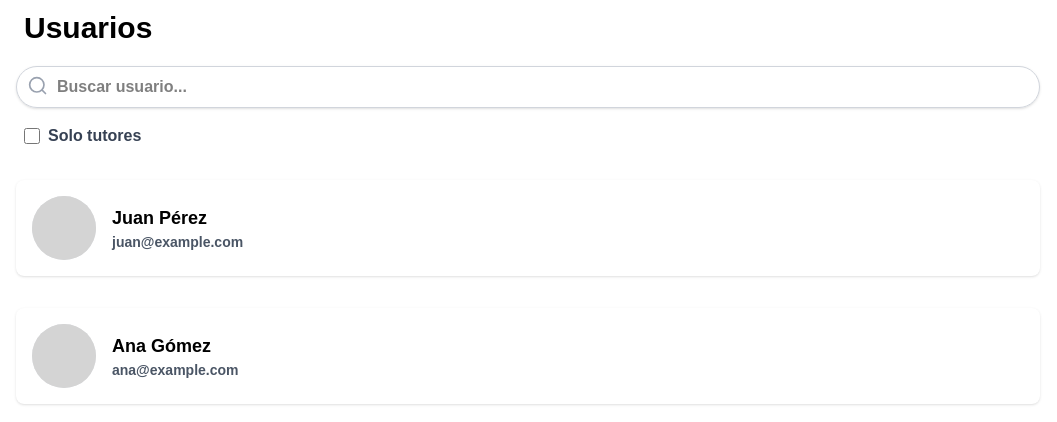
Test case: UserListPage › muestra solo tutores cuando el checkbox está marcado
Expected: the link "Juan Pérez" is shown, left=112, top=204, right=207, bottom=232
Expected: the link "Ana Gómez" is shown, left=112, top=332, right=211, bottom=360
# Hacer click en "Solo tutores"
Click the checkbox labelled "Solo tutores": [32, 136] box left=24, top=128, right=40, bottom=144
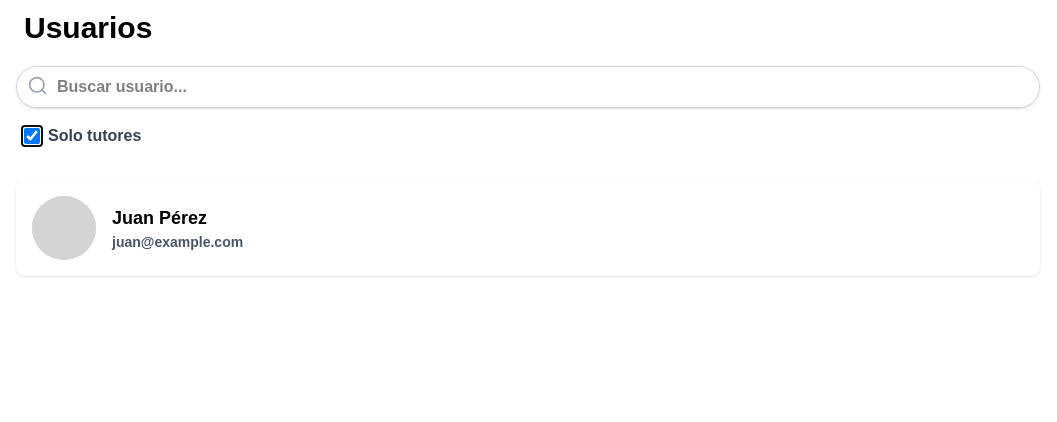
Expected: the link "Juan Pérez" is shown, left=112, top=204, right=207, bottom=232
Result: the link "Ana Gómez" is gone
